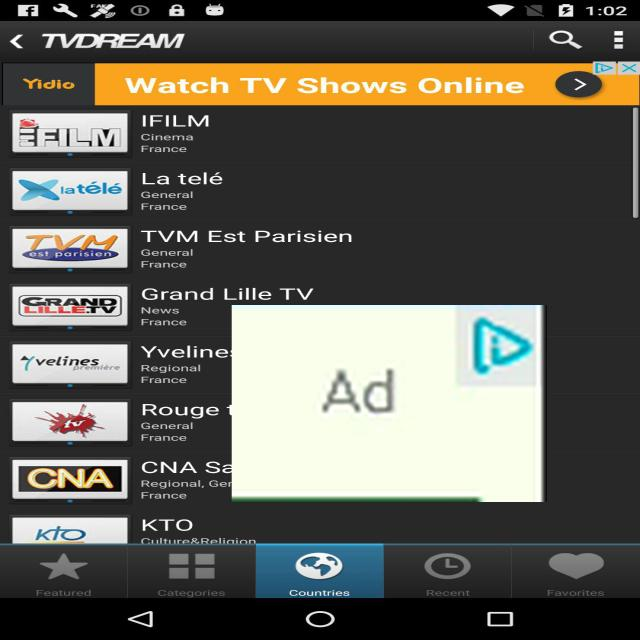sneaking: (232, 305, 547, 502)
